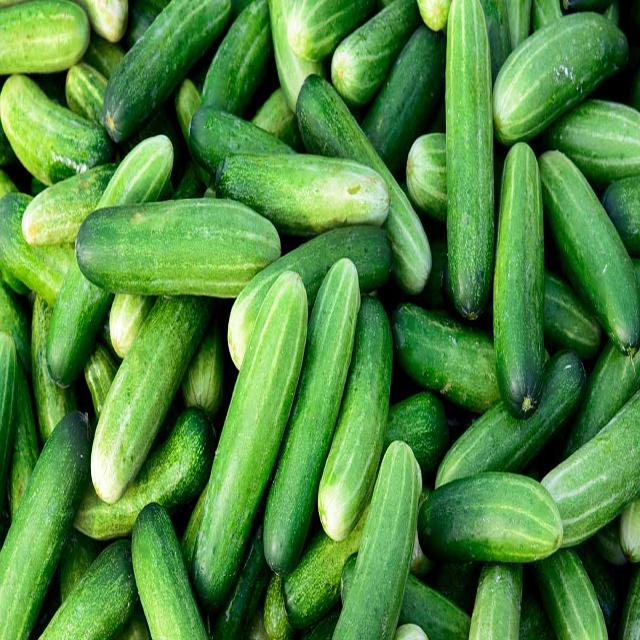Pickle: (192, 271, 308, 612), (264, 260, 360, 575), (296, 74, 431, 294), (91, 295, 211, 504), (538, 150, 640, 356), (0, 412, 90, 639), (435, 352, 585, 487), (76, 198, 280, 296), (74, 410, 215, 540), (104, 0, 231, 143), (492, 12, 629, 144), (319, 295, 392, 540), (334, 440, 418, 640), (445, 0, 494, 320), (542, 390, 640, 548), (216, 155, 390, 235), (494, 143, 544, 418), (418, 471, 564, 563), (361, 26, 446, 179), (0, 74, 115, 186), (391, 302, 500, 413), (331, 0, 420, 105), (46, 257, 112, 388), (201, 0, 271, 117), (21, 164, 116, 246), (189, 105, 294, 174), (534, 550, 608, 640), (252, 88, 301, 150), (109, 293, 155, 358)
